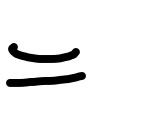eqv: (6, 42, 86, 87)
